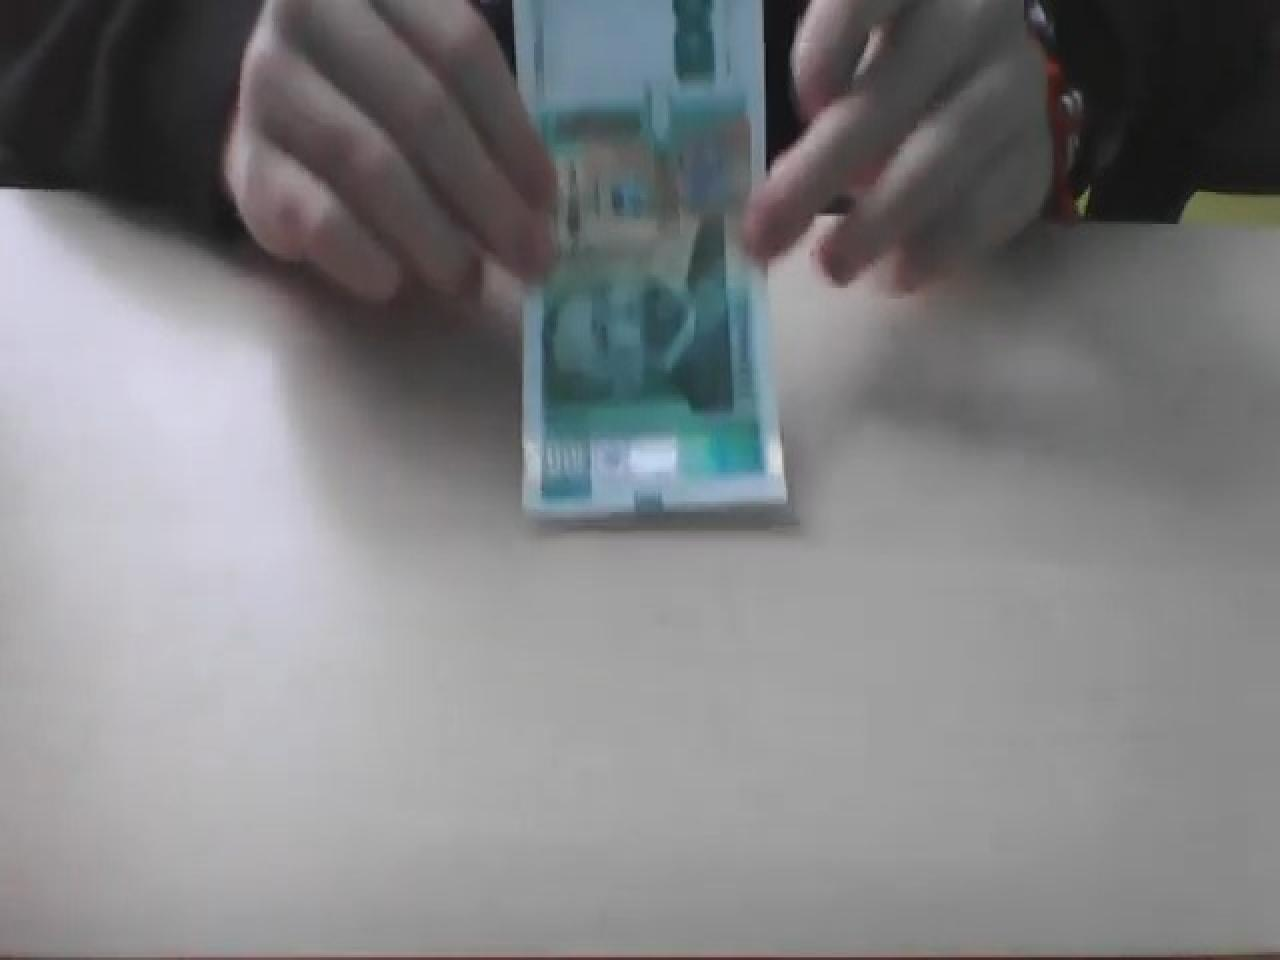100leva: (472, 0, 792, 530)
